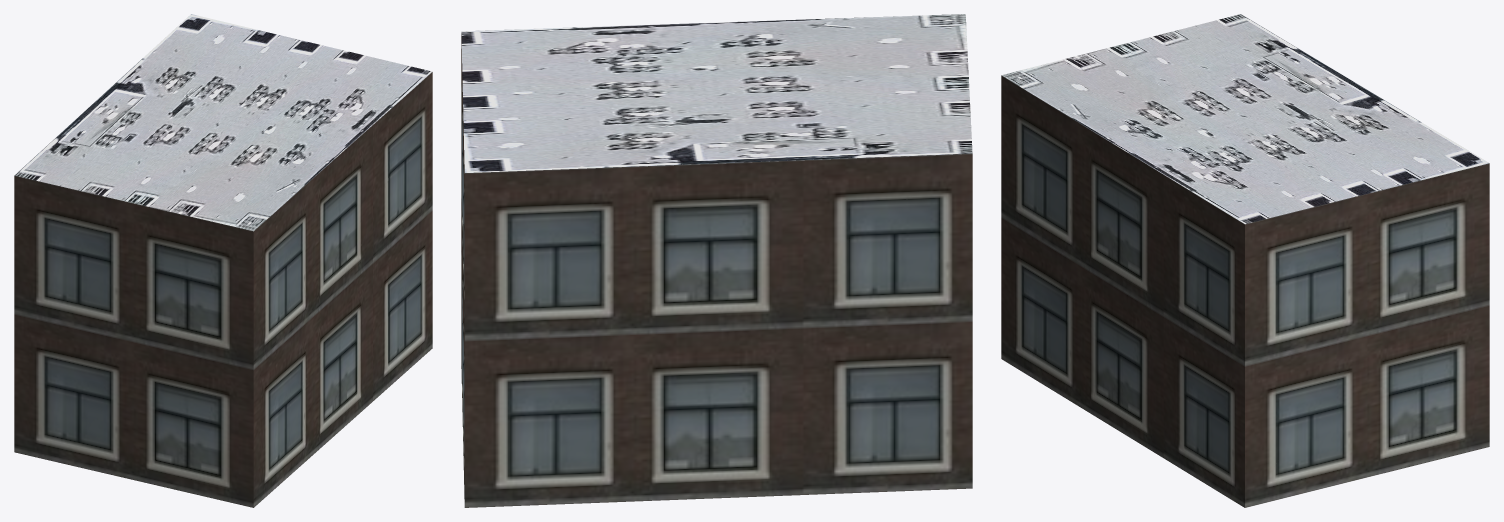
Rendered from ResTex__41.fbx.
The picture shows the model from 3 angles, left to right: view 1: azimuth 30°, elevation 25°; view 2: azimuth 150°, elevation 25°; view 3: azimuth 270°, elevation 25°; orthographic projection. The views are drawn at different scales.
Parts seen in each view (by area): view 1: CityEngineMaterial_16_m, CityEngineMaterial_15_m; view 2: CityEngineMaterial_16_m, CityEngineMaterial_15_m; view 3: CityEngineMaterial_16_m, CityEngineMaterial_15_m.
Boxes of the visible parts, box(x1,y1,x2,y2) form: CityEngineMaterial_16_m: box(14, 72, 432, 507); CityEngineMaterial_15_m: box(14, 14, 432, 231); CityEngineMaterial_16_m: box(461, 34, 972, 507); CityEngineMaterial_15_m: box(461, 14, 972, 172); CityEngineMaterial_16_m: box(1001, 75, 1489, 507); CityEngineMaterial_15_m: box(1001, 14, 1489, 224).
Bounding box in the file's own units: 9.54 × 6 × 9.37.
Materials: 2 (2 with a texture image).
